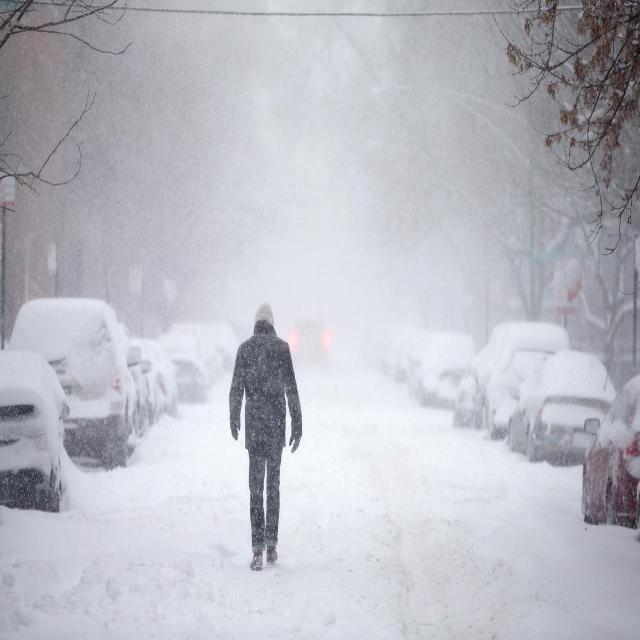Car: (10, 296, 143, 468), (503, 350, 618, 466), (0, 346, 71, 514), (581, 370, 640, 528), (285, 314, 330, 366)
